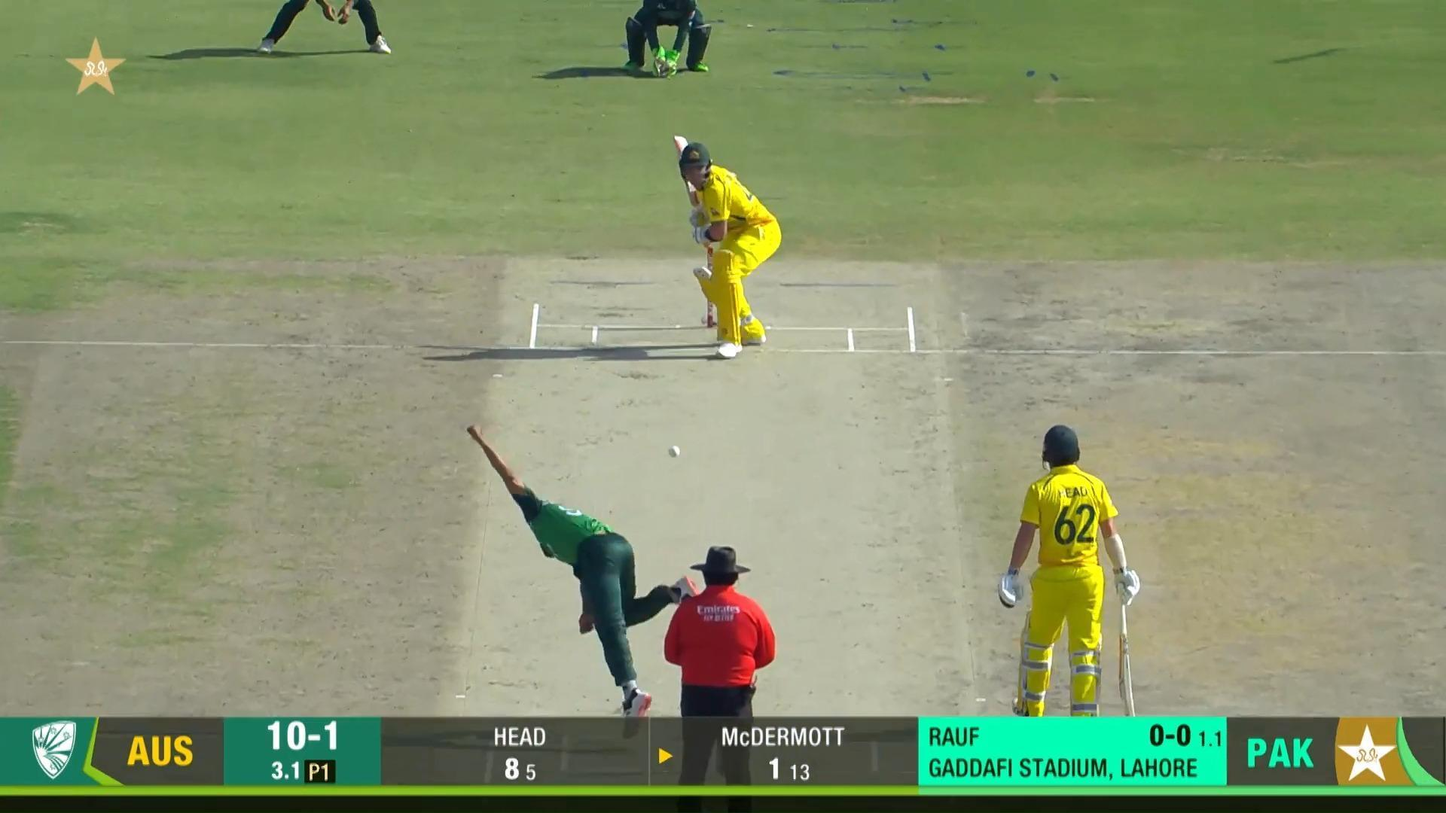BM 1: (673, 136, 782, 357)
BO: (465, 423, 701, 735)
